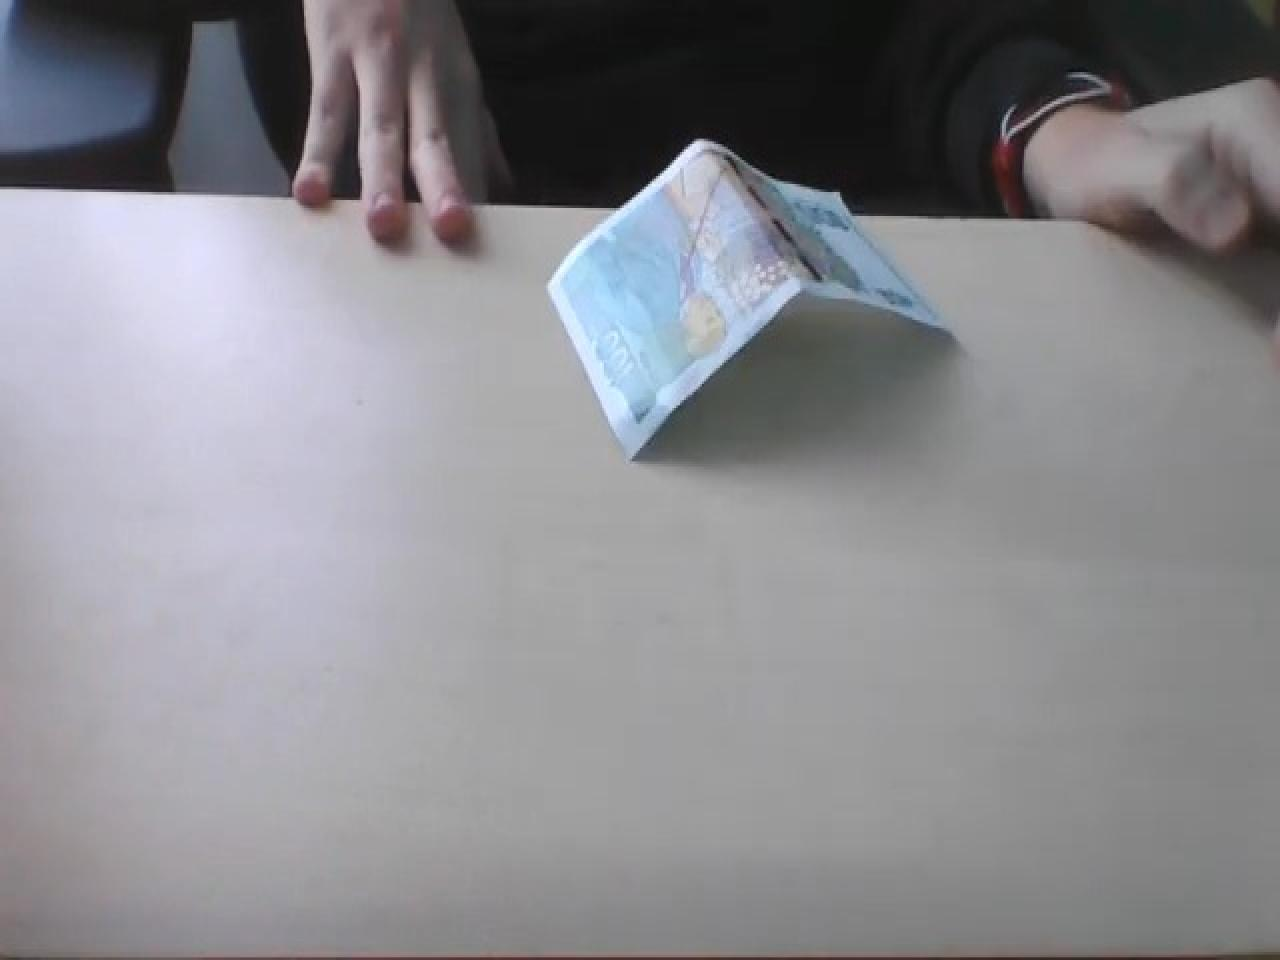100leva: (544, 133, 956, 462)
